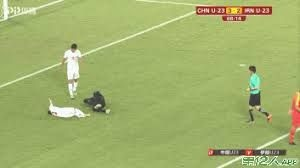falling: (80, 85, 112, 115)
